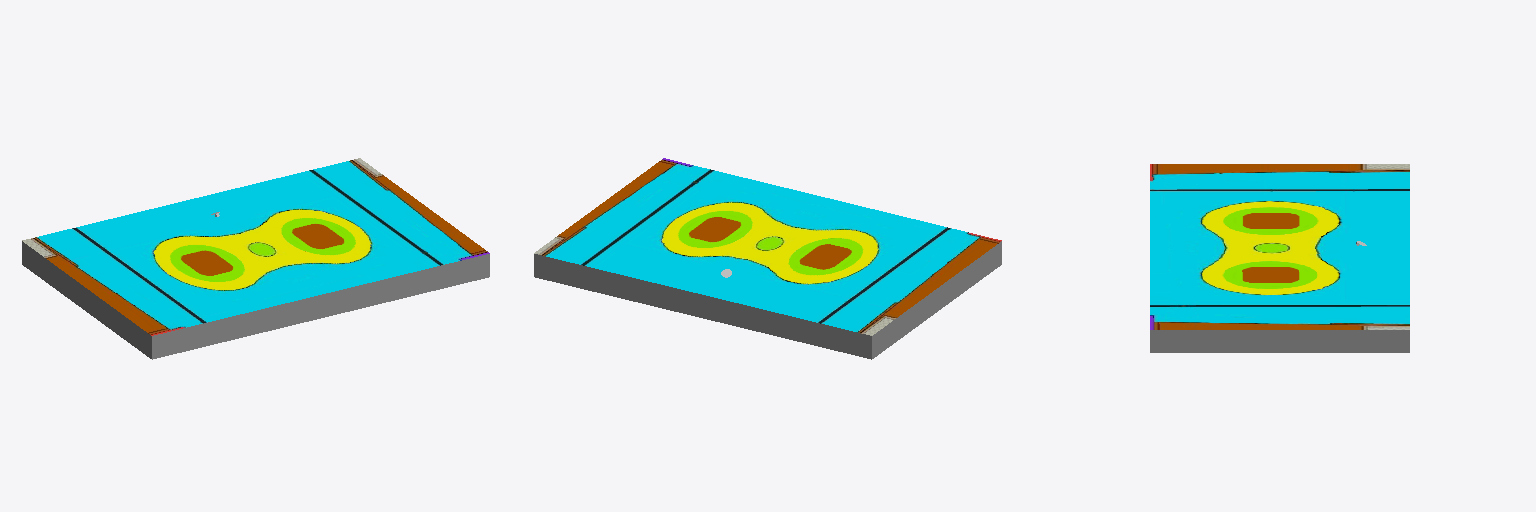
3 renders of one model, left to right at view 1: azimuth 30°, elevation 25°; view 2: azimuth 150°, elevation 25°; view 3: azimuth 270°, elevation 25°, orthographic.
Visible parts, largest first — view 1: Mesh.003_Mesh.004_Cube.005; view 2: Mesh.003_Mesh.004_Cube.005; view 3: Mesh.003_Mesh.004_Cube.005.
Boxes of the visible parts, x1,y1,x2,y2 form: Mesh.003_Mesh.004_Cube.005: [22, 158, 489, 359]; Mesh.003_Mesh.004_Cube.005: [534, 158, 1001, 359]; Mesh.003_Mesh.004_Cube.005: [1150, 164, 1409, 352].
Bounding box in the file's own units: 3 × 0.2492 × 2.
Materials: 3 (1 with a texture image).